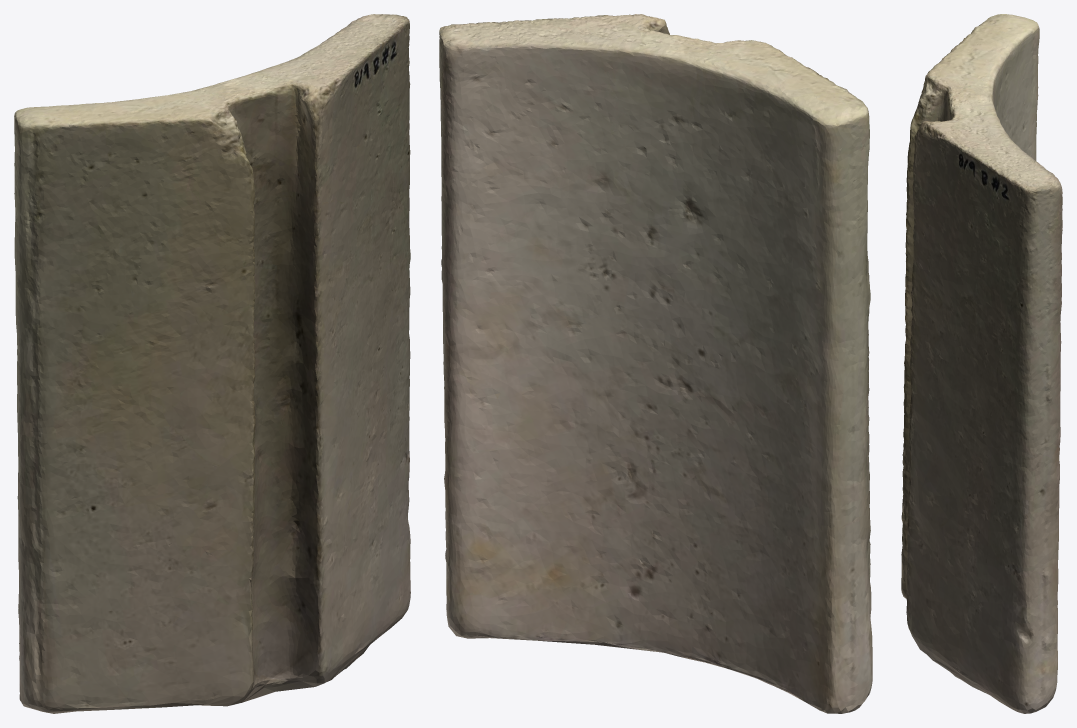
Rendered from Pixel 26.glb.
3 views of the same model, side by side, from view 1: azimuth 30°, elevation 25°; view 2: azimuth 150°, elevation 25°; view 3: azimuth 270°, elevation 25° (orthographic). The views are drawn at different scales.
Bounding box in the file's own units: 0.1815 × 0.2586 × 0.0702.
1 material, 1 textured.
